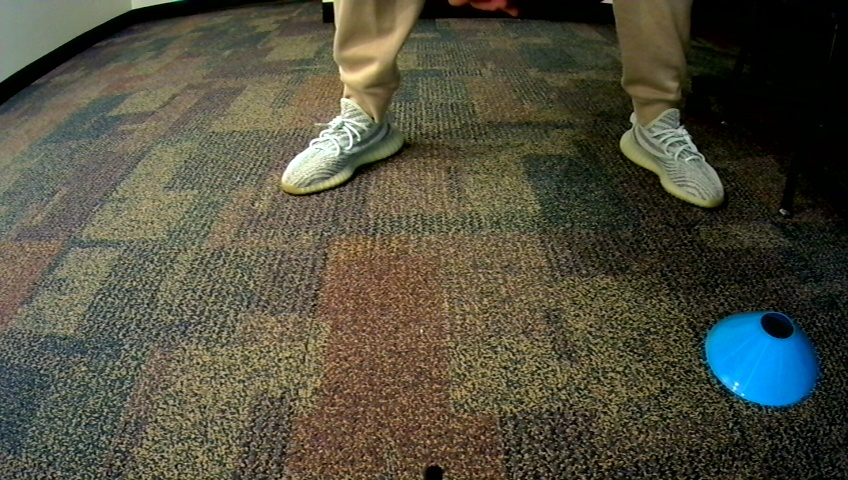cone: (702, 312, 825, 410)
